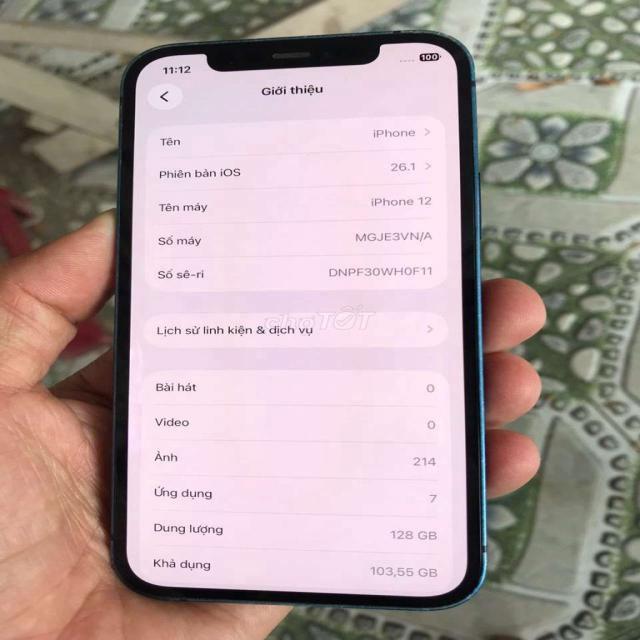gen_12_13: (112, 32, 486, 609)
